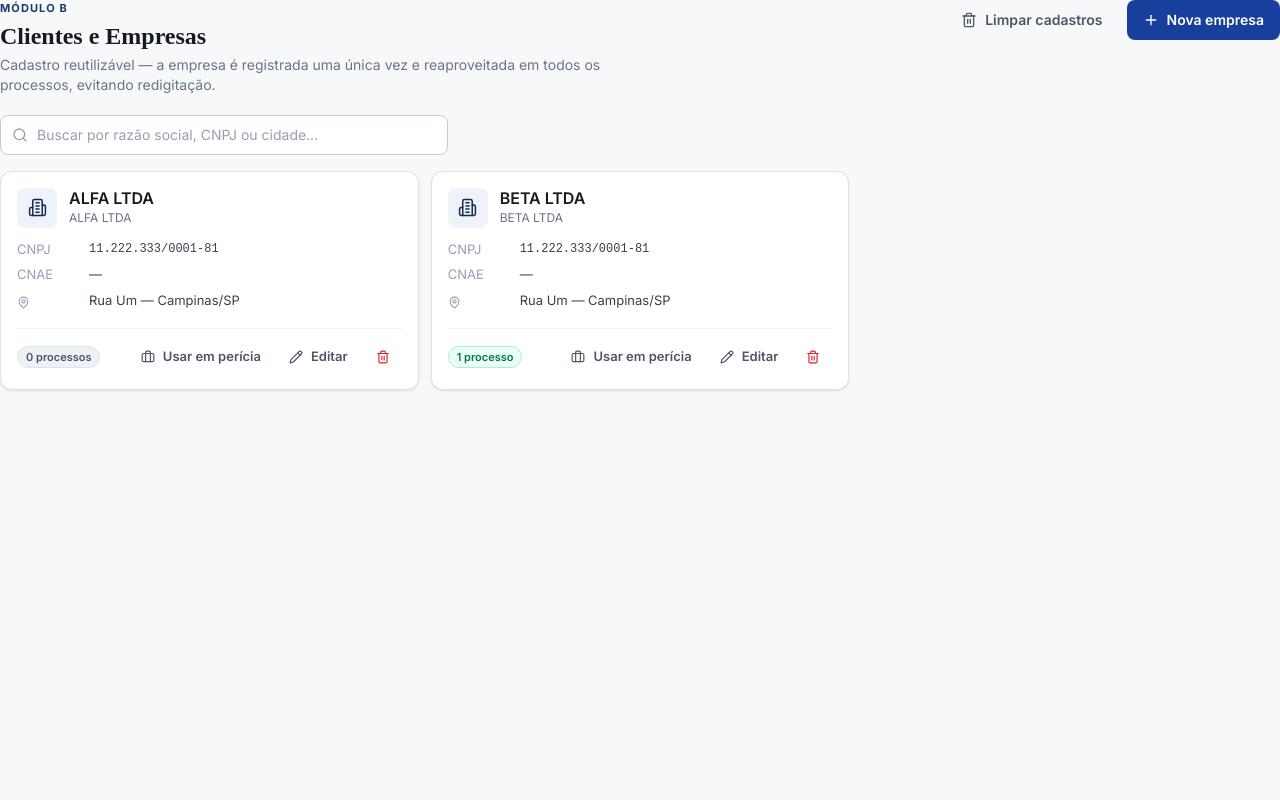
Test: Clientes — limpeza dos cadastros de teste › quem ficou é dito pelo nome — senão o perito conta e não entende a sobra
The width and height of the screenshot is (1280, 800).
Click the button "Limpar cadastros" at (1032, 20), box [945,0,1119,40]
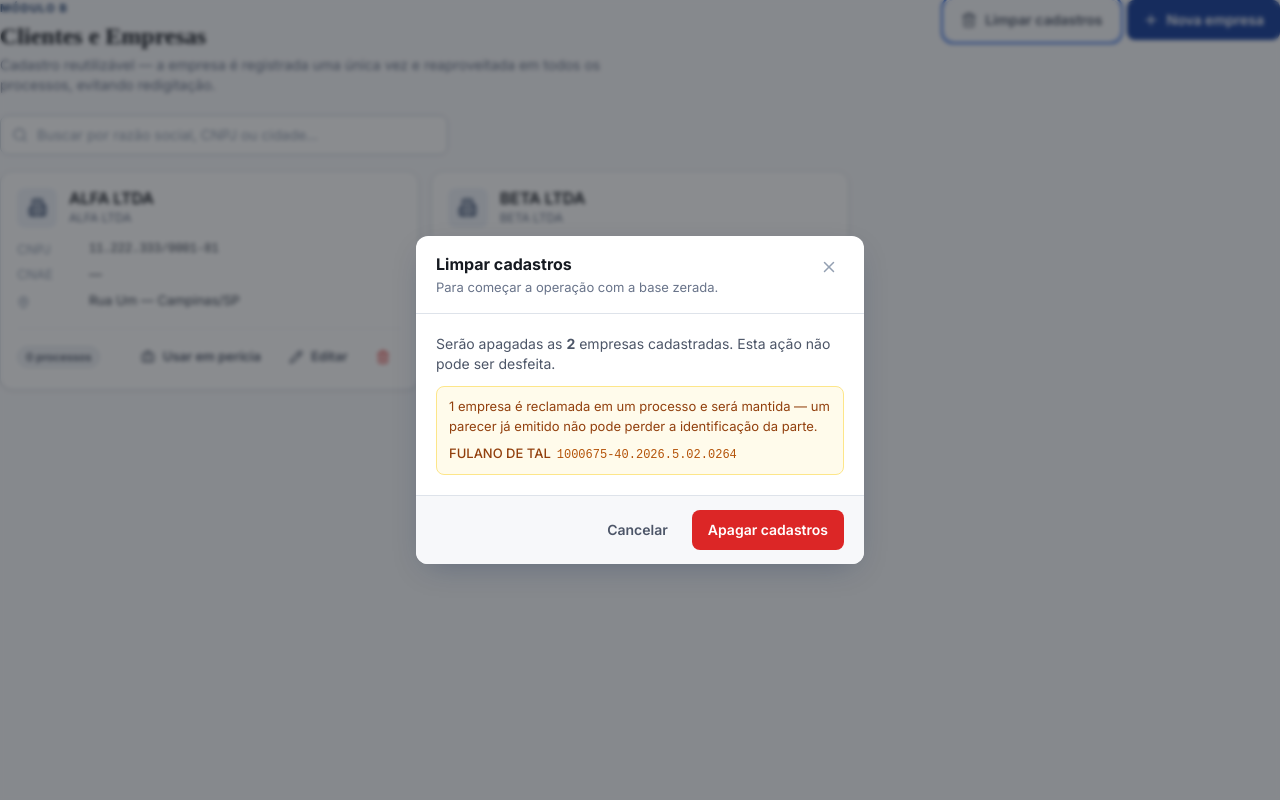
Click the button "Apagar cadastros" at (768, 530), box [692,510,844,550]
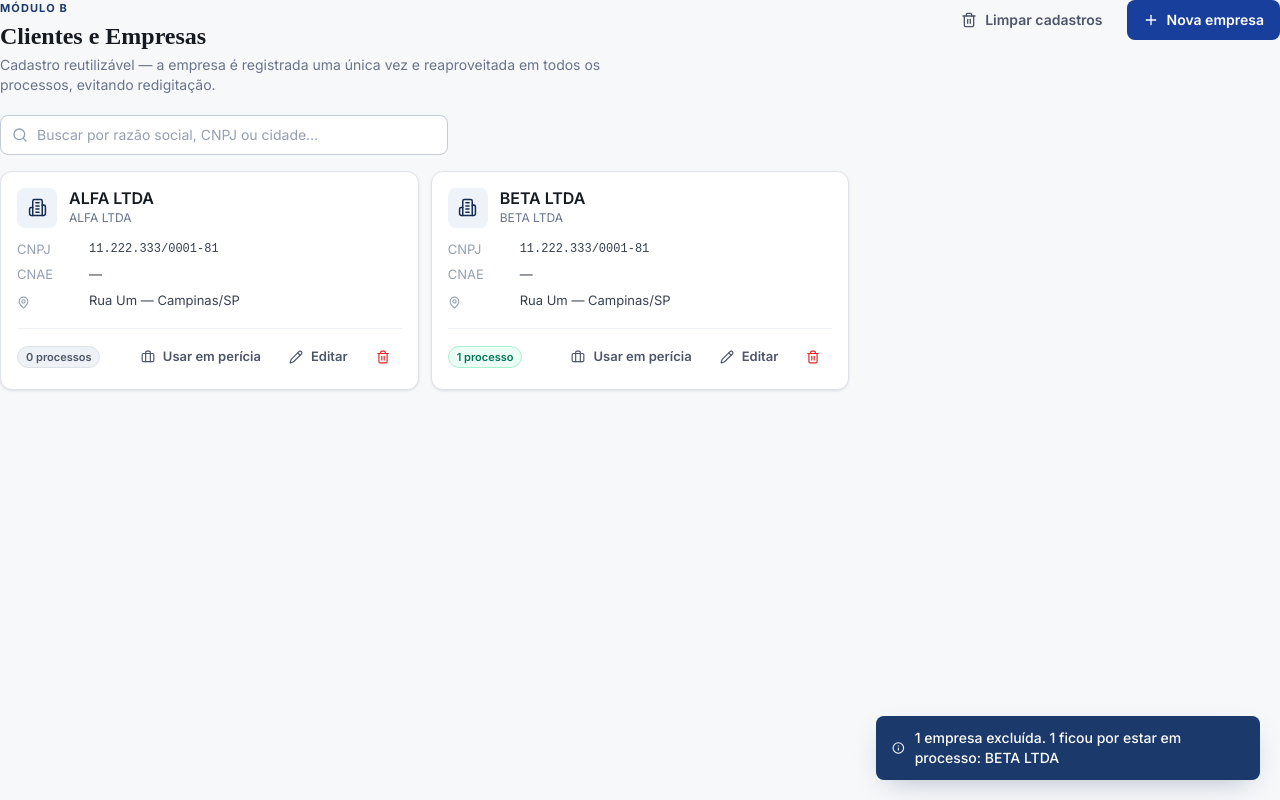
Result: the text "1 empresa excluída. 1 ficou por estar em processo: BETA LTDA" is shown at [915,729,1181,766]
